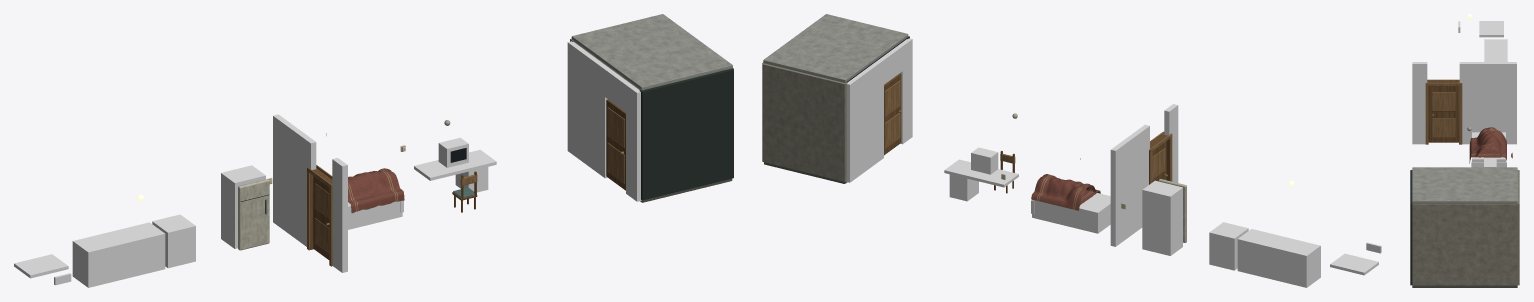
File: interaction.glb
3 views of the same model, side by side, from view 1: azimuth 30°, elevation 25°; view 2: azimuth 150°, elevation 25°; view 3: azimuth 270°, elevation 25° (orthographic). The views are drawn at different scales.
Visible parts, largest first — view 1: landing-front-screen, landing-ceiling, depth-sink-cabinet, depth-entry-rear-wall, depth-middle-wall, fridge-leaf, sleep-blanket, depth-middle-front-wall, depth-entry-front-wall, depth-fridge, depth-stove, depth-desk-top (+9 smaller); view 2: landing-rear-wall, landing-ceiling, depth-entry-rear-wall, depth-middle-wall, depth-sink-cabinet, depth-fridge, depth-bed-base, sleep-blanket, depth-stove, depth-entry-front-wall, depth-desk-top, depth-middle-front-wall (+7 smaller); view 3: landing-far-wall, depth-middle-wall, landing-ceiling, depth-middle-front-wall, passage-leaf, sleep-blanket, depth-sink-cabinet, passage-panel.002, passage-panel.003, depth-dining-top, landing-front-screen, landing-rear-wall (+10 smaller).
Boxes of the visible parts, x1,y1,x2,y2 form: landing-front-screen: (639, 68, 733, 200); landing-ceiling: (571, 14, 732, 90); depth-sink-cabinet: (72, 222, 165, 287); depth-entry-rear-wall: (567, 41, 609, 178); depth-middle-wall: (273, 114, 316, 249); fridge-leaf: (238, 179, 269, 250); sleep-blanket: (348, 168, 404, 213); depth-middle-front-wall: (332, 158, 347, 272); depth-entry-front-wall: (626, 84, 641, 201); depth-fridge: (221, 165, 265, 248); depth-stove: (152, 214, 195, 268); depth-desk-top: (414, 149, 496, 180); landing-rear-wall: (762, 63, 847, 181); landing-ceiling: (763, 14, 908, 82); depth-entry-rear-wall: (846, 59, 883, 182); depth-middle-wall: (1110, 124, 1149, 246); depth-sink-cabinet: (1237, 229, 1320, 287); depth-fridge: (1142, 180, 1182, 255); depth-bed-base: (1032, 193, 1110, 233); sleep-blanket: (1031, 174, 1099, 210); depth-stove: (1209, 222, 1248, 270); depth-entry-front-wall: (899, 38, 912, 144); depth-desk-top: (944, 159, 1018, 187); depth-middle-front-wall: (1164, 104, 1178, 182); landing-far-wall: (1412, 203, 1517, 285); depth-middle-wall: (1459, 62, 1516, 144); landing-ceiling: (1412, 167, 1517, 203); depth-middle-front-wall: (1412, 62, 1427, 144); passage-leaf: (1428, 86, 1458, 142); sleep-blanket: (1469, 127, 1506, 163); depth-sink-cabinet: (1484, 39, 1507, 61); passage-panel.002: (1432, 118, 1455, 137); passage-panel.003: (1432, 92, 1455, 111); depth-dining-top: (1479, 21, 1503, 37); landing-front-screen: (1410, 170, 1412, 285); landing-rear-wall: (1517, 170, 1519, 285).
Size of the model in its own units: 19.03 by 3.2 by 3.62.
Materials: 115 (113 with a texture image).
